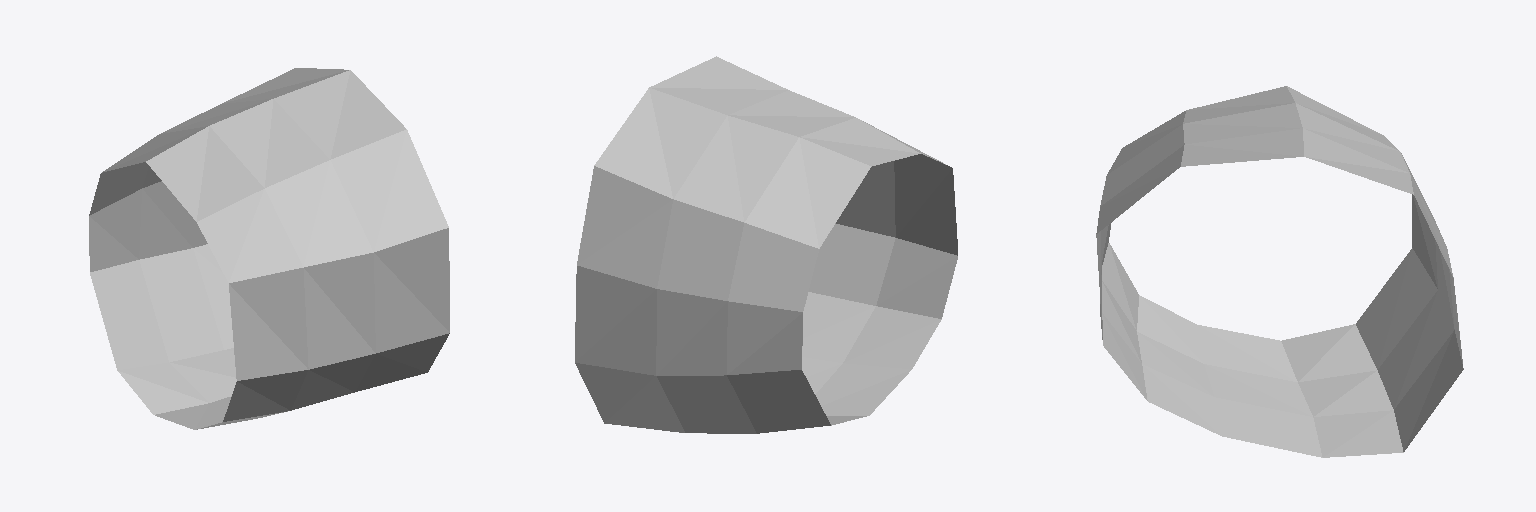
The model's file is LAS_1_Upper-arm_R.obj.
The picture shows the model from 3 angles: view 1: azimuth 30°, elevation 25°; view 2: azimuth 150°, elevation 25°; view 3: azimuth 270°, elevation 25°; orthographic projection.
Parts seen in each view (by area): view 1: Knight.015_proxy741.obj.011; view 2: Knight.015_proxy741.obj.011; view 3: Knight.015_proxy741.obj.011.
Part boxes in pixels (bbox=[...]): Knight.015_proxy741.obj.011: bbox=[89, 68, 449, 429]; Knight.015_proxy741.obj.011: bbox=[575, 56, 957, 433]; Knight.015_proxy741.obj.011: bbox=[1096, 86, 1463, 457].
Size of the model in its own units: 0.1297 by 0.1754 by 0.193.